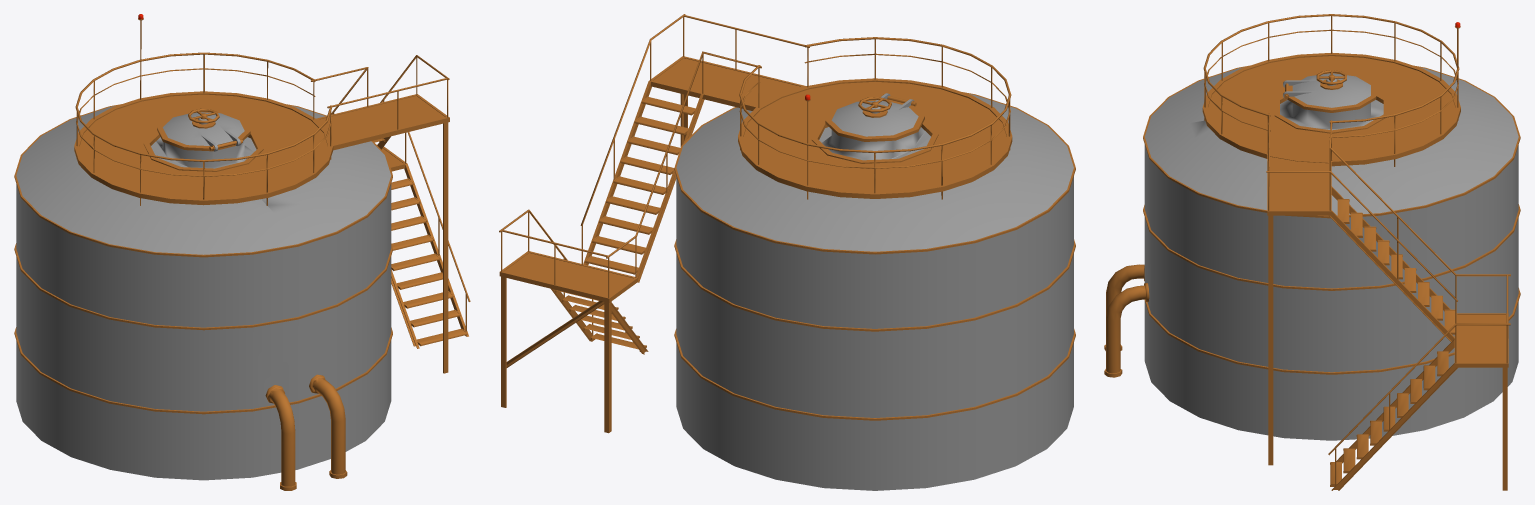
Rendered from oil_tank.glb.
3 views of the same model, side by side, from view 1: azimuth 30°, elevation 25°; view 2: azimuth 150°, elevation 25°; view 3: azimuth 270°, elevation 25° (orthographic). The views are drawn at different scales.
Visible parts, largest first — view 1: Material3.003, Material2.002; view 2: Material3.003, Material2.002; view 3: Material3.003, Material2.002.
Boxes of the visible parts, bbox=[...] form: Material3.003: bbox=[16, 106, 391, 480]; Material2.002: bbox=[14, 14, 470, 490]; Material3.003: bbox=[676, 93, 1073, 490]; Material2.002: bbox=[499, 14, 1075, 433]; Material3.003: bbox=[1144, 67, 1518, 440]; Material2.002: bbox=[1104, 14, 1520, 490].
Size of the model in its own units: 77.13 by 58.43 by 64.91.
